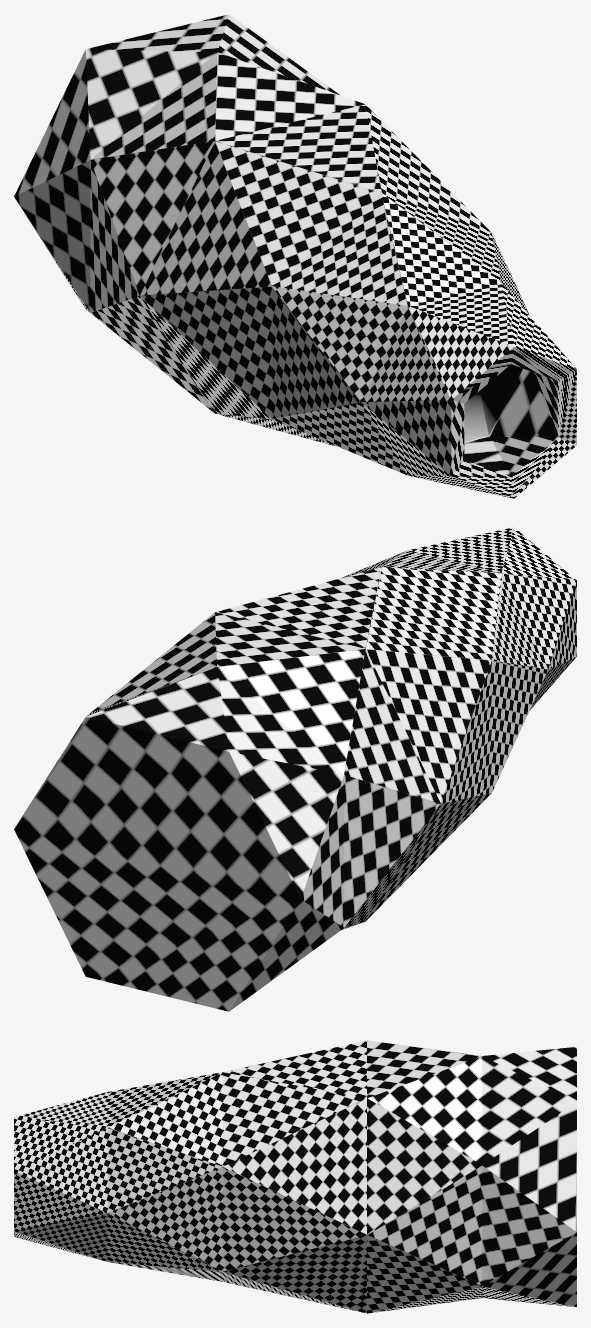
The model's file is simple-vase.obj.
3 renders of one model, top to bottom at view 1: azimuth 30°, elevation 25°; view 2: azimuth 150°, elevation 25°; view 3: azimuth 270°, elevation 25°, orthographic. The views are drawn at different scales.
Bounding box in the file's own units: 55.46 × 53.97 × 114.
